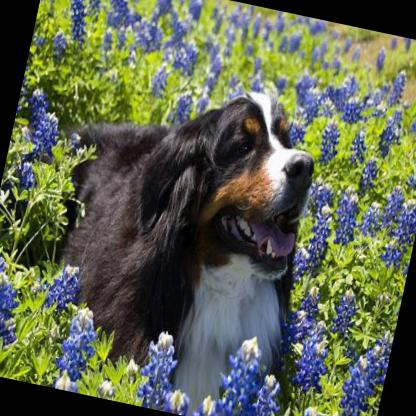Bernese_mountain_dog: (22, 50, 337, 416)
